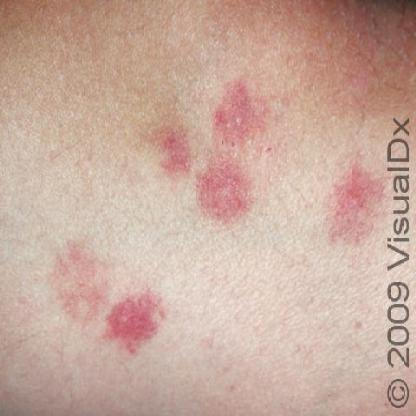Bed Bug: (157, 72, 269, 235), (47, 245, 168, 357), (320, 152, 385, 250)
